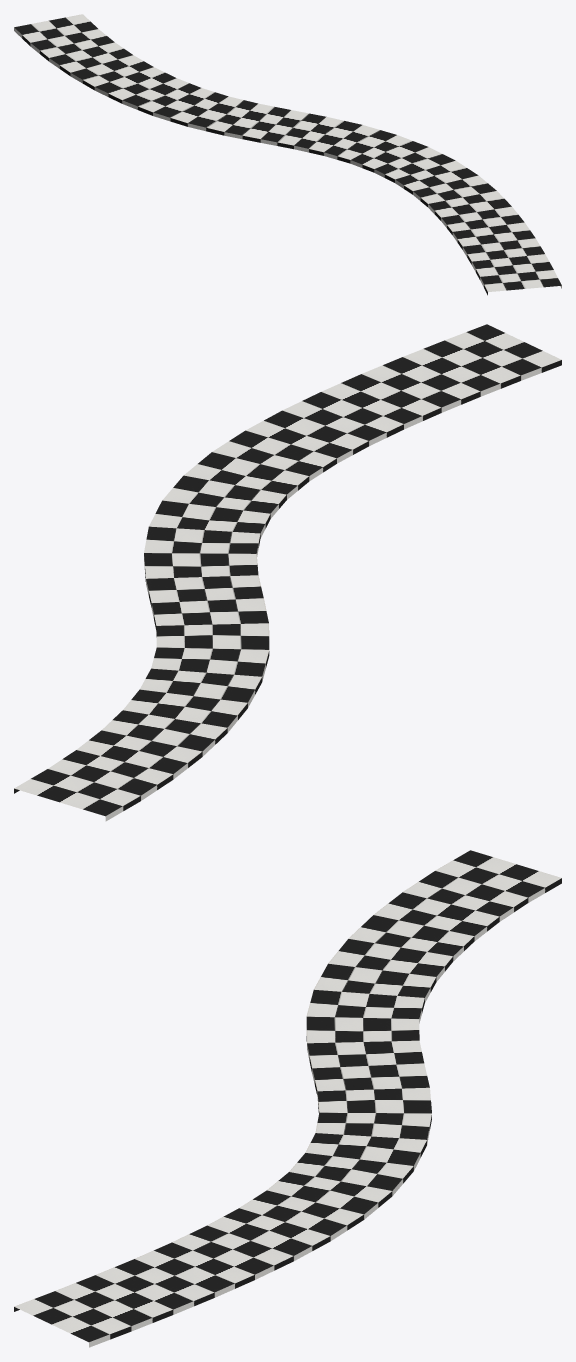
Rendered from Path3.fbx.
3 renders of one model, top to bottom at view 1: azimuth 30°, elevation 25°; view 2: azimuth 150°, elevation 25°; view 3: azimuth 330°, elevation 25°, orthographic. The views are drawn at different scales.
Parts seen in each view (by area): view 1: Path3; view 2: Path3; view 3: Path3.
Boxes of the visible parts, box(x1,y1,x2,y2) form: Path3: box(14, 14, 561, 295); Path3: box(14, 324, 561, 821); Path3: box(14, 850, 561, 1347).
Bounding box in the file's own units: 6.16 × 21.26 × 0.106.
1 material, 1 textured.
